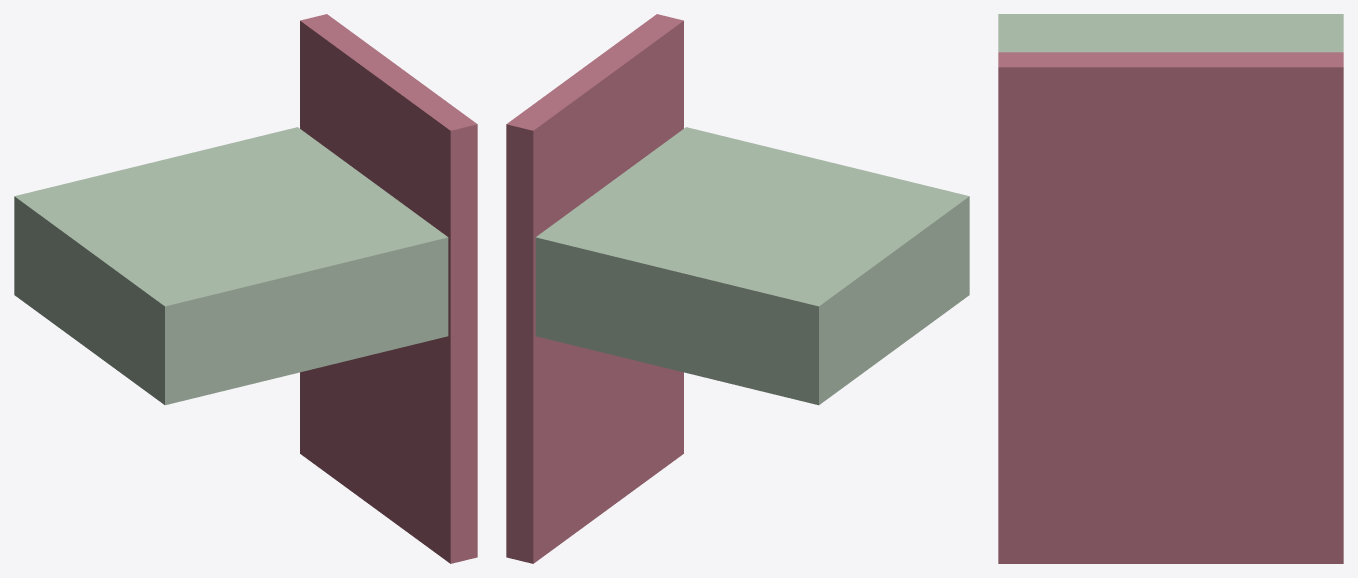
The picture shows the model from 3 angles, left to right: view 1: azimuth 30°, elevation 25°; view 2: azimuth 150°, elevation 25°; view 3: azimuth 270°, elevation 25°; orthographic projection. The views are drawn at different scales.
Visible parts, largest first — view 1: world; view 2: world; view 3: world.
Part boxes in pixels (x1,y1,x2,y2): world: (14,14,477,563); world: (506,14,969,563); world: (998,14,1343,563).
Size of the model in its own units: 6.95 by 9.2 by 5.8.
